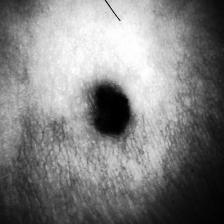Benign Marking or Mole: (92, 82, 134, 139)
